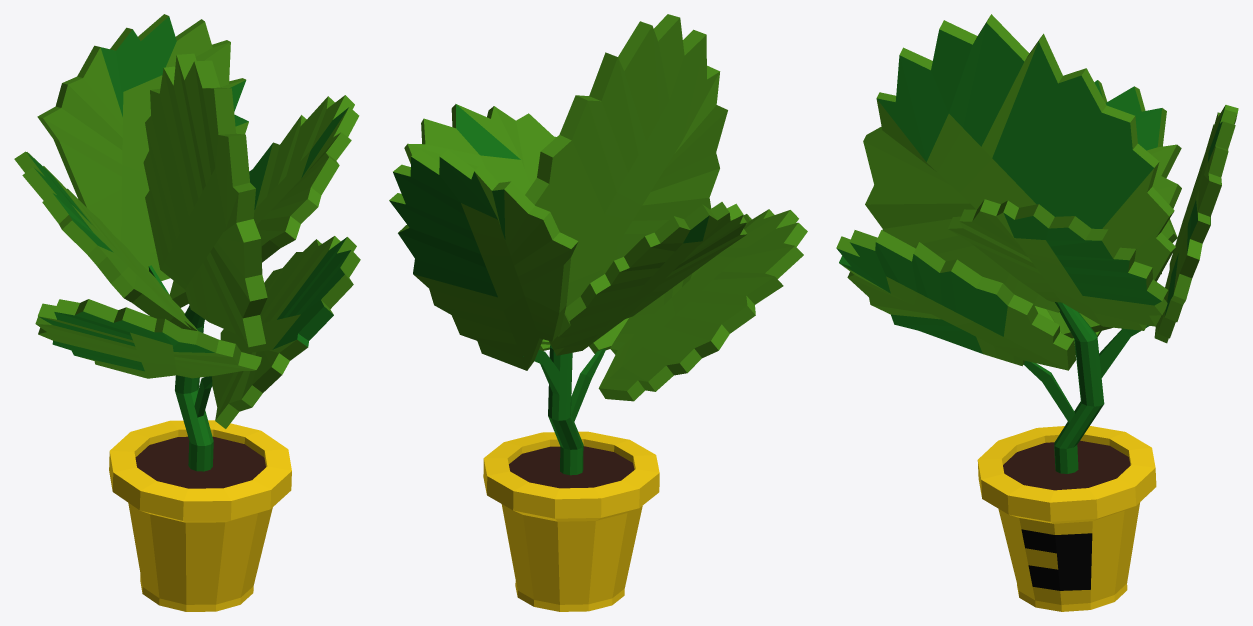
3 renders of one model, left to right at view 1: azimuth 30°, elevation 25°; view 2: azimuth 150°, elevation 25°; view 3: azimuth 270°, elevation 25°, orthographic. The views are drawn at different scales.
Visible parts, largest first — view 1: mesh366552536, mesh178894983, mesh1254356760, mesh1919502090, mesh446567840, mesh928958851, mesh176259812, mesh1683600040; view 2: mesh178894983, mesh1254356760, mesh366552536, mesh446567840, mesh176259812, mesh928958851, mesh1683600040; view 3: mesh178894983, mesh366552536, mesh1919502090, mesh928958851, mesh1254356760, mesh1683600040, mesh176259812.
Boxes of the visible parts, x1=… form: mesh366552536: x1=109, y1=420, x2=291, y2=611; mesh178894983: x1=143, y1=53, x2=267, y2=347; mesh1254356760: x1=37, y1=14, x2=248, y2=280; mesh1919502090: x1=212, y1=236, x2=360, y2=428; mesh446567840: x1=35, y1=299, x2=261, y2=378; mesh928958851: x1=169, y1=95, x2=359, y2=307; mesh176259812: x1=14, y1=151, x2=197, y2=330; mesh1683600040: x1=148, y1=265, x2=213, y2=471; mesh178894983: x1=525, y1=14, x2=727, y2=307; mesh1254356760: x1=389, y1=149, x2=578, y2=370; mesh366552536: x1=483, y1=431, x2=659, y2=611; mesh446567840: x1=598, y1=209, x2=807, y2=401; mesh176259812: x1=549, y1=202, x2=747, y2=355; mesh928958851: x1=404, y1=104, x2=556, y2=344; mesh1683600040: x1=523, y1=345, x2=605, y2=475; mesh178894983: x1=863, y1=14, x2=1175, y2=312; mesh366552536: x1=977, y1=426, x2=1156, y2=611; mesh1919502090: x1=836, y1=230, x2=1075, y2=370; mesh928958851: x1=948, y1=199, x2=1167, y2=330; mesh1254356760: x1=1154, y1=105, x2=1238, y2=343; mesh1683600040: x1=1023, y1=302, x2=1149, y2=473; mesh176259812: x1=1047, y1=80, x2=1181, y2=338.
Size of the model in its own units: 1.15 by 1.79 by 1.18.
